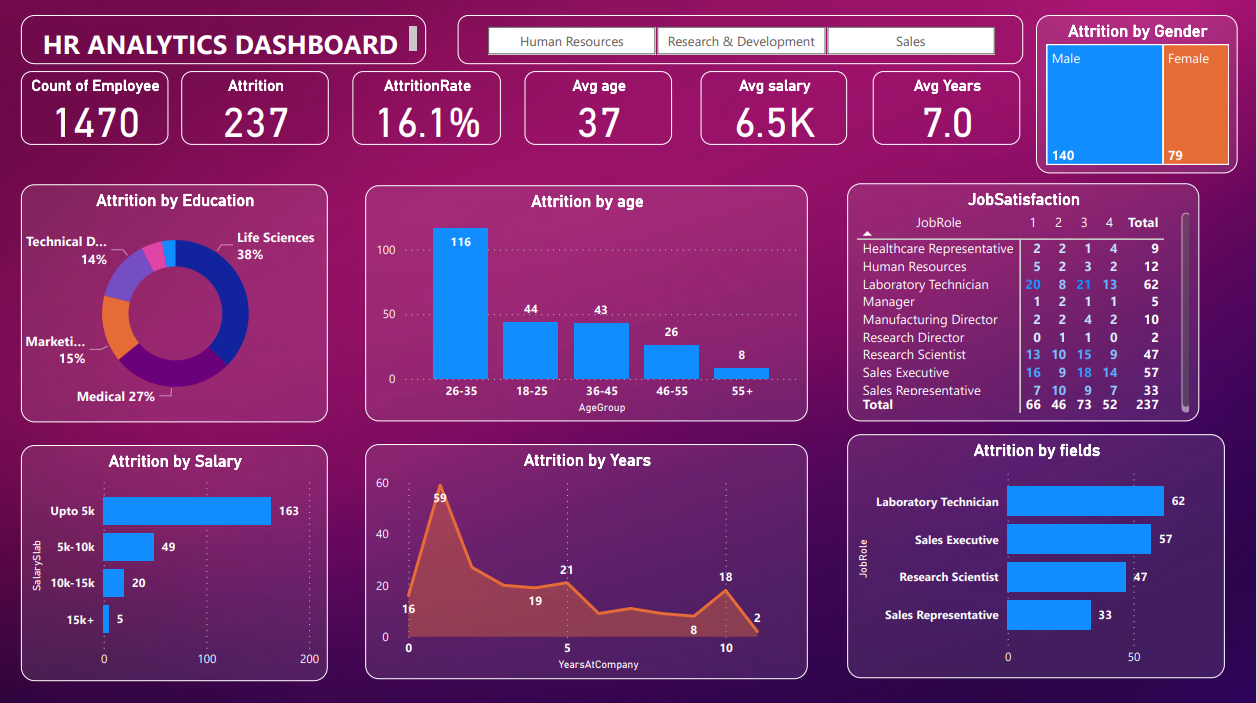

The dashboard page shown, as its layout file describes it:
{"tool":"powerbi","page":{"name":"Page 1","canvas":[1280,720],"ordinal":0},"visuals":[{"type":"card","title":"Count of Employee","fields":{"Values":["CountNonNull(HR_Analytics.EmpID)"]},"box":[22.9,73.2,150,75],"z":0},{"type":"card","title":"Attrition","fields":{"Values":["Sum(HR_Analytics.AttritionCount)"]},"box":[185.7,73.2,150,75],"z":1000},{"type":"card","title":"AttritionRate","fields":{"Values":["HR_Analytics.AttritionRate"]},"box":[359.5,73.2,151.8,75],"z":2000},{"type":"card","title":"Avg age","fields":{"Values":["Avg(HR_Analytics.Age)"]},"box":[535.1,73.2,150,75],"z":3000},{"type":"card","title":"Avg Years","fields":{"Values":["Avg(HR_Analytics.YearsAtCompany)"]},"box":[888.9,72.7,150.6,75.3],"z":4000},{"type":"card","title":"Avg salary","fields":{"Values":["Avg(HR_Analytics.MonthlyIncome)"]},"box":[713.7,72.7,149,75.3],"z":5000},{"type":"donutChart","title":"Attrition by Education","fields":{"Category":["HR_Analytics.EducationField"],"Y":["Sum(HR_Analytics.AttritionCount)"]},"box":[22.8,188,312.2,241.5],"z":6000},{"type":"columnChart","title":"Attrition by age","fields":{"Category":["HR_Analytics.AgeGroup"],"Y":["Sum(HR_Analytics.AttritionCount)"]},"box":[373,189,450.2,239.9],"z":7000},{"type":"pivotTable","title":"JobSatisfaction","fields":{"Rows":["HR_Analytics.JobRole"],"Columns":["HR_Analytics.JobSatisfaction"],"Values":["Sum(HR_Analytics.AttritionCount)"]},"box":[862.6,187.3,358.2,241.5],"z":8000},{"type":"barChart","title":"Attrition by Salary","fields":{"Category":["HR_Analytics.SalarySlab"],"Y":["Sum(HR_Analytics.AttritionCount)"]},"box":[23,453.5,312.2,239.9],"z":9000},{"type":"barChart","title":"Attrition by fields","fields":{"Category":["HR_Analytics.JobRole"],"Y":["Sum(HR_Analytics.AttritionCount)"]},"box":[862.6,442,384.5,248.1],"z":9001},{"type":"areaChart","title":"Attrition by Years","fields":{"Category":["HR_Analytics.YearsAtCompany"],"Y":["Sum(HR_Analytics.AttritionCount)"]},"box":[372.9,452.5,450.4,238.8],"z":9002},{"type":"treemap","title":"Attrition by Gender","fields":{"Group":["HR_Analytics.Gender"],"Values":["Sum(HR_Analytics.AttritionCount)"]},"box":[1054.9,16.4,205.4,161],"z":9003},{"type":"slicer","fields":{"Values":["HR_Analytics.Department"]},"box":[466.6,16.4,575.1,49.3],"z":9004},{"type":"textbox","box":[23,16.4,412.4,49.3],"z":9005}]}

Visuals, with their boxes in screenshot pixels (x1, y1, x2, y2), scaled from the page's 1280x720 canvas onto the 1257x703 screenshot:
"Count of Employee" card: <region>22, 71, 170, 145</region>
"Attrition" card: <region>182, 71, 330, 145</region>
"AttritionRate" card: <region>353, 71, 502, 145</region>
"Avg age" card: <region>525, 71, 673, 145</region>
"Avg Years" card: <region>873, 71, 1021, 145</region>
"Avg salary" card: <region>701, 71, 847, 145</region>
"Attrition by Education" donutChart: <region>22, 184, 329, 419</region>
"Attrition by age" columnChart: <region>366, 185, 808, 419</region>
"JobSatisfaction" pivotTable: <region>847, 183, 1199, 419</region>
"Attrition by Salary" barChart: <region>23, 443, 329, 677</region>
"Attrition by fields" barChart: <region>847, 432, 1225, 674</region>
"Attrition by Years" areaChart: <region>366, 442, 809, 675</region>
"Attrition by Gender" treemap: <region>1036, 16, 1238, 173</region>
slicer - HR_Analytics.Department: <region>458, 16, 1023, 64</region>
textbox: <region>23, 16, 428, 64</region>
